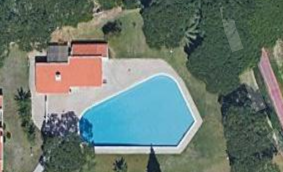pool: (93, 102, 195, 146)
